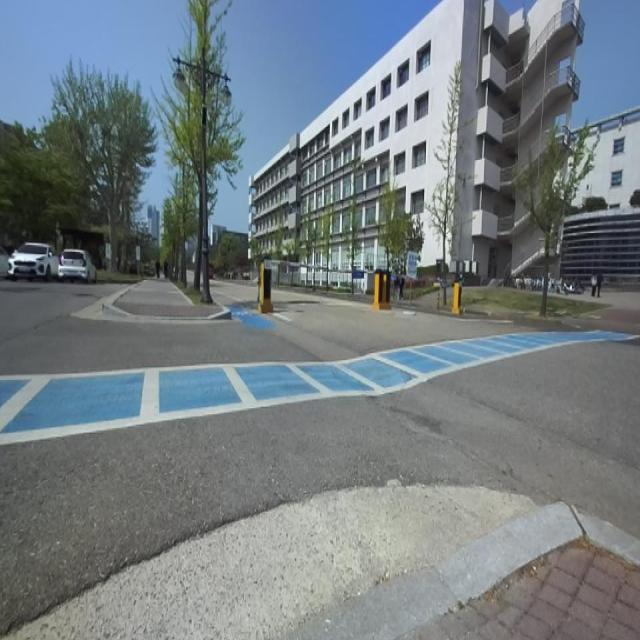sidewalk: (290, 502, 640, 640), (102, 278, 232, 319)
